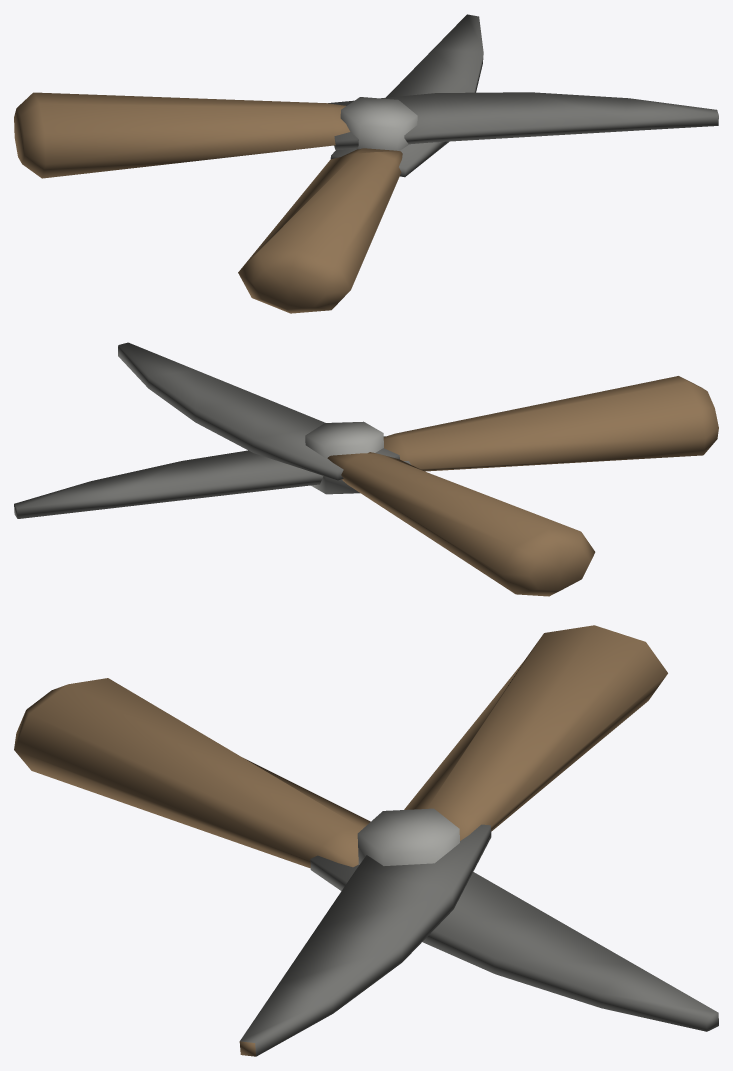
The model's file is rpgpp_ag_scissors_01.fbx.
3 renders of one model, top to bottom at view 1: azimuth 30°, elevation 25°; view 2: azimuth 150°, elevation 25°; view 3: azimuth 270°, elevation 25°, orthographic. The views are drawn at different scales.
Visible parts, largest first — view 1: rpgpp_ag_scissors_01; view 2: rpgpp_ag_scissors_01; view 3: rpgpp_ag_scissors_01.
Boxes of the visible parts, x1,y1,x2,y2 form: rpgpp_ag_scissors_01: [14, 14, 718, 313]; rpgpp_ag_scissors_01: [14, 342, 718, 596]; rpgpp_ag_scissors_01: [14, 625, 718, 1056].
Size of the model in its own units: 0.4905 by 0.0638 by 0.3904.
